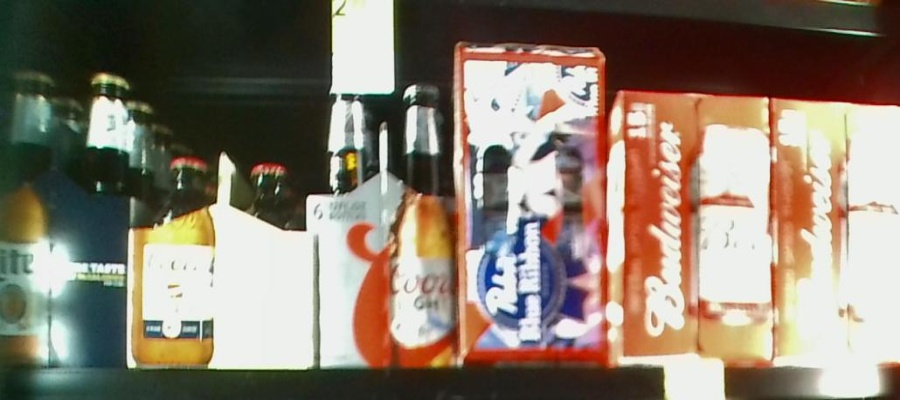bottle: (454, 40, 607, 364), (606, 87, 771, 364), (315, 81, 459, 368), (129, 155, 315, 370), (1, 72, 133, 364), (772, 99, 895, 366)
